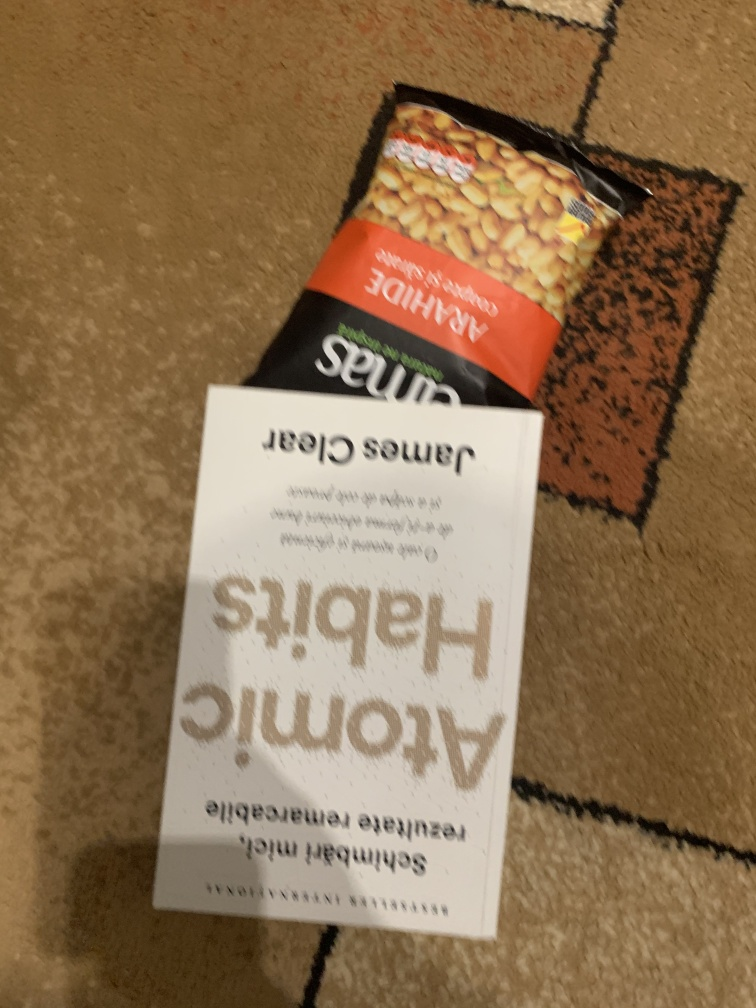peanuts: (255, 78, 655, 406)
